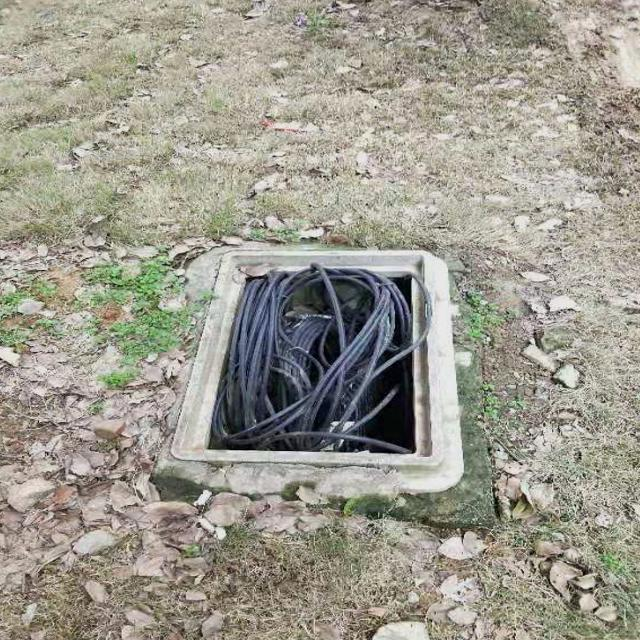lose: (182, 240, 447, 477)
